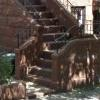stairs: (15, 40, 84, 86), (16, 1, 86, 40)
